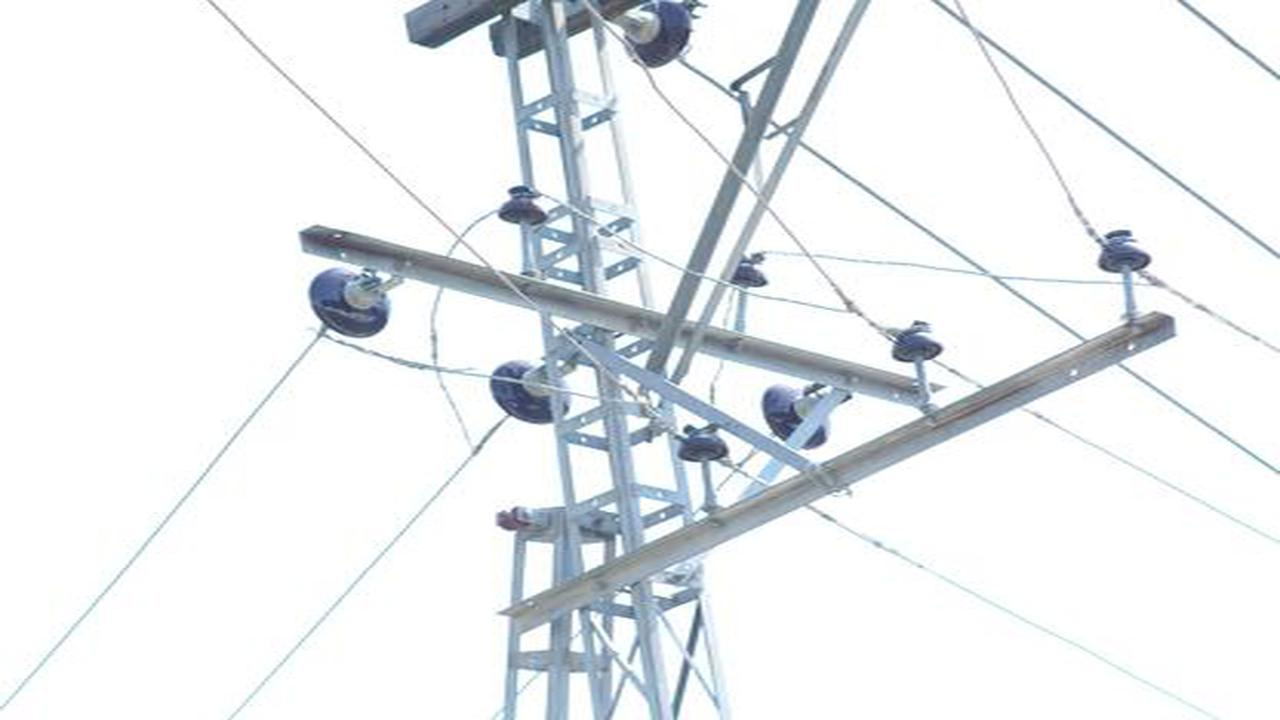insulator_disc: (307, 261, 394, 340), (488, 358, 574, 429), (762, 381, 838, 452), (622, 5, 695, 69)
insulator_pin: (884, 315, 946, 367), (1094, 226, 1155, 276), (674, 419, 734, 467), (496, 182, 549, 231), (731, 246, 772, 294)
